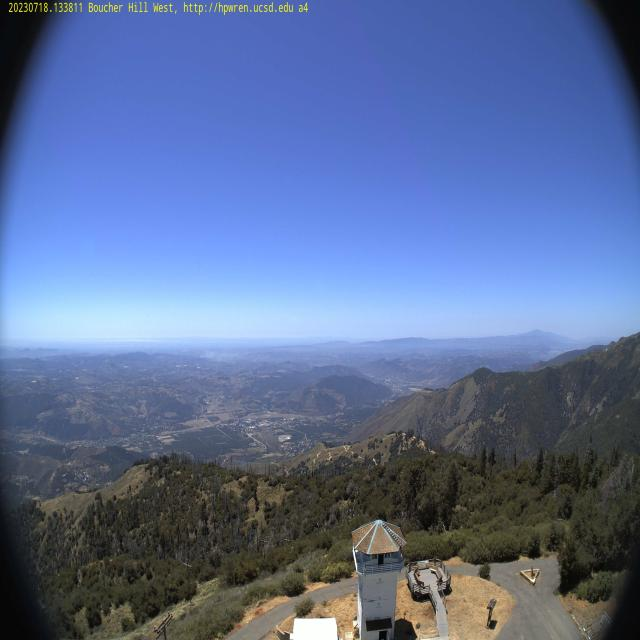smoke: (216, 347, 247, 366), (196, 348, 215, 360)
